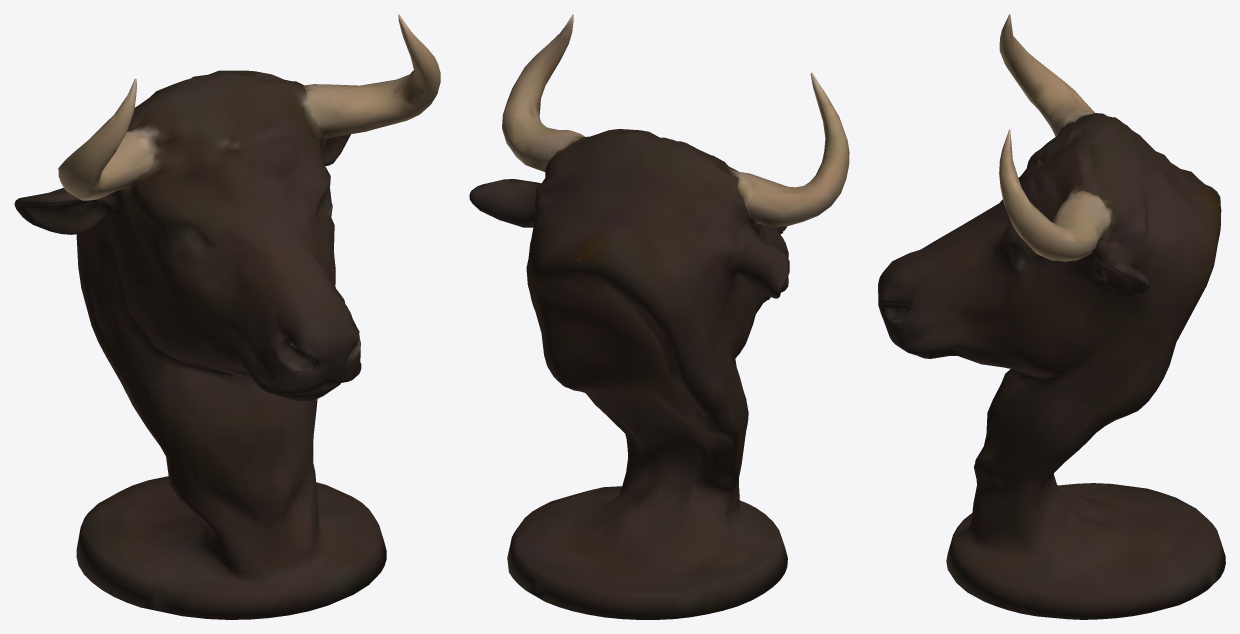
File: design-bull-head.glb
The picture shows the model from 3 angles, left to right: view 1: azimuth 30°, elevation 25°; view 2: azimuth 150°, elevation 25°; view 3: azimuth 270°, elevation 25°; orthographic projection. The views are drawn at different scales.
Visible parts, largest first — view 1: bull_head; view 2: bull_head; view 3: bull_head.
Part boxes in pixels (bbox=[...]): bull_head: bbox=[14, 14, 440, 619]; bull_head: bbox=[469, 14, 849, 619]; bull_head: bbox=[878, 14, 1225, 619].
Bounding box in the file's own units: 0.3062 × 0.4328 × 0.2803.
Materials: 1 (1 with a texture image).
